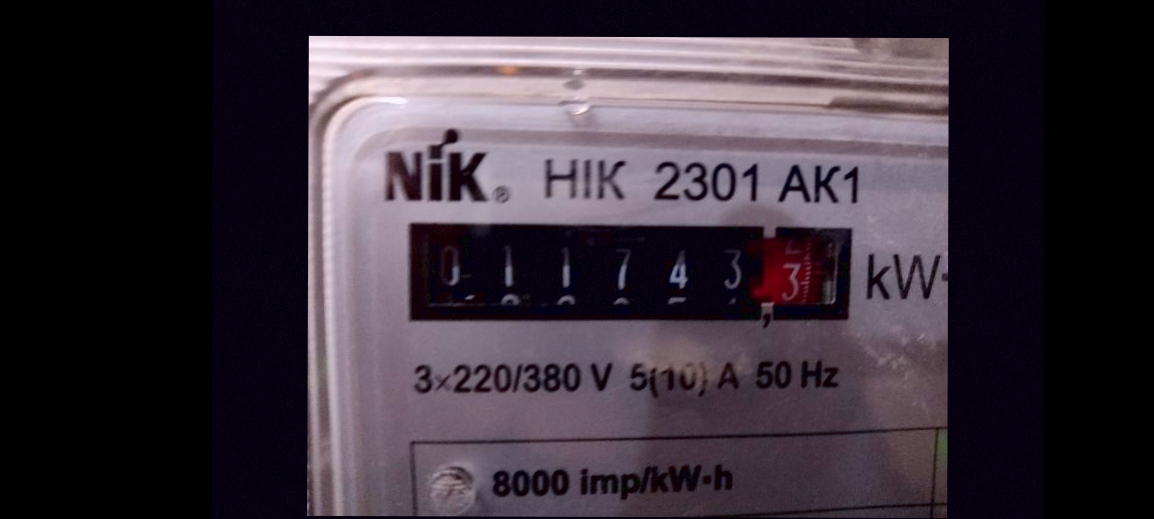0: (435, 241, 464, 288)
1: (555, 242, 576, 290), (500, 242, 517, 290)
3: (719, 245, 747, 292), (779, 259, 803, 303)
4: (665, 244, 693, 292)
7: (611, 244, 635, 292)
screen: (393, 213, 859, 332)
